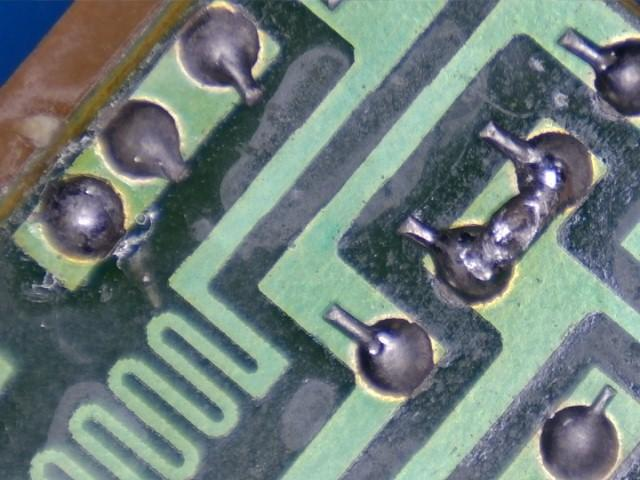Short_circuit: (456, 160, 567, 283)
